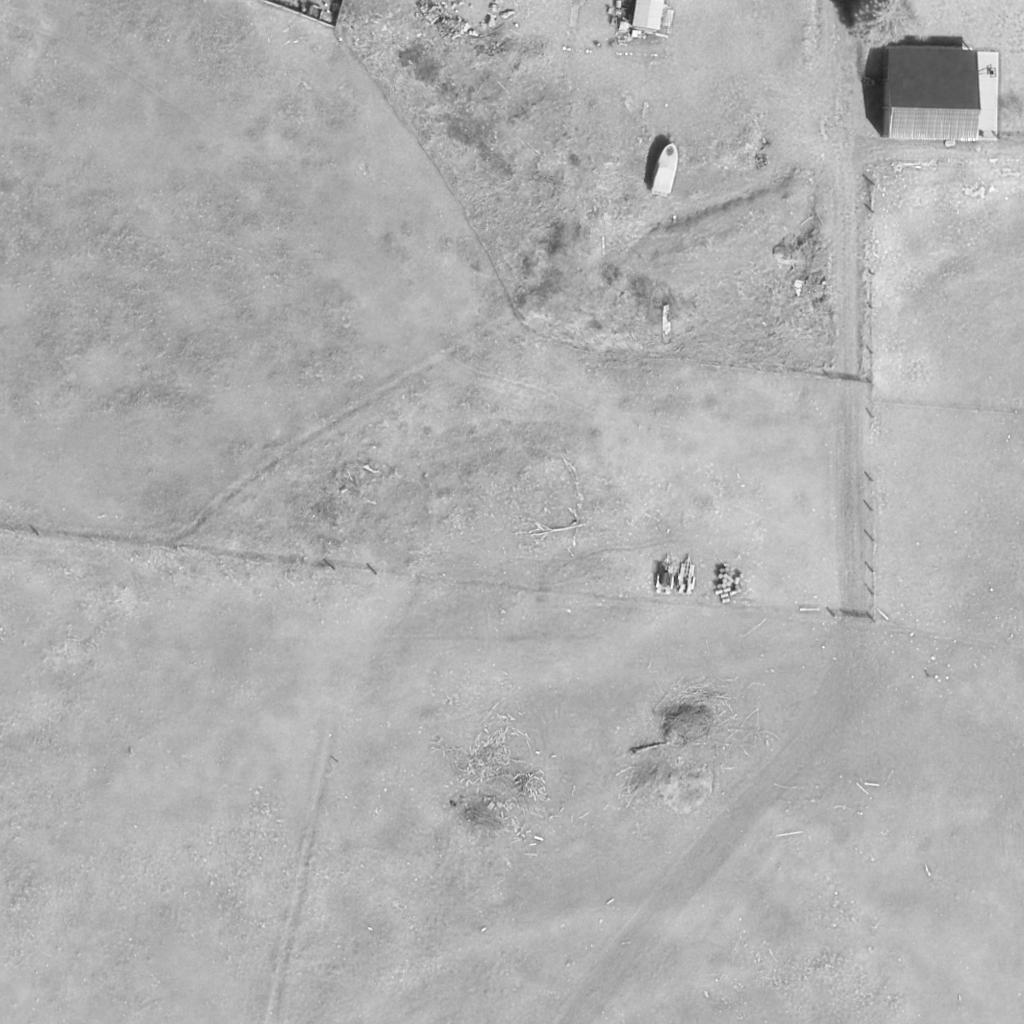vehicle: (649, 140, 683, 200)
